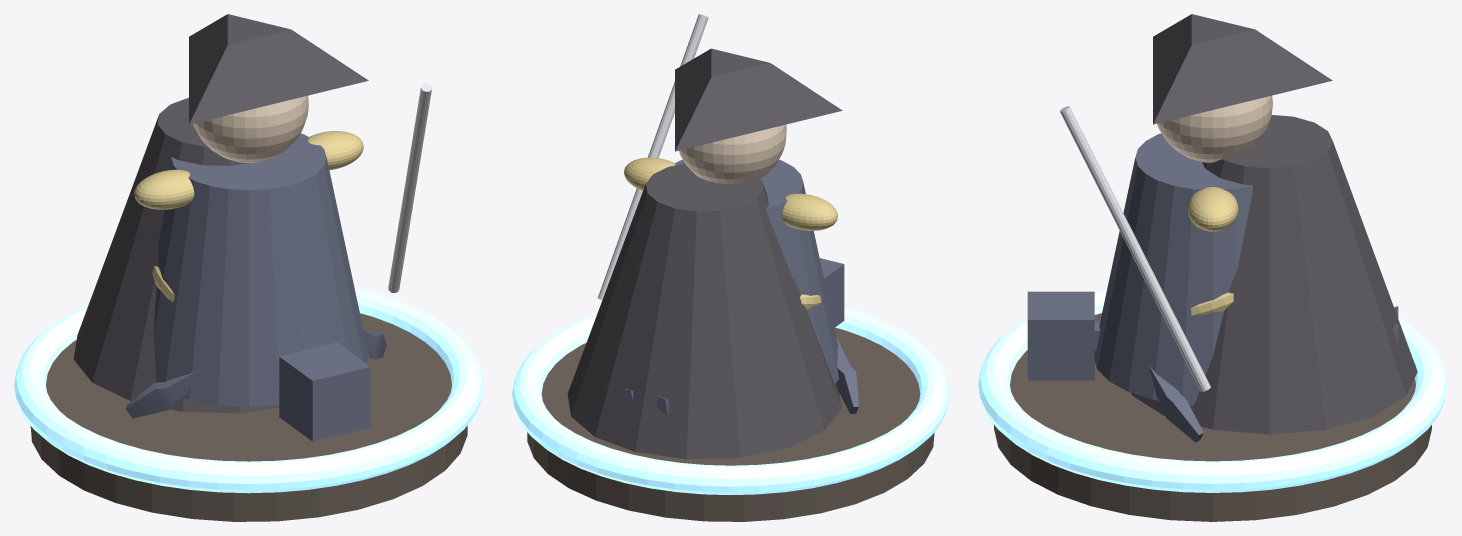
File: unit_dantes.glb
The picture shows the model from 3 angles, left to right: view 1: azimuth 30°, elevation 25°; view 2: azimuth 150°, elevation 25°; view 3: azimuth 270°, elevation 25°; orthographic projection. The views are drawn at different scales.
Parts seen in each view (by area): view 1: Cone, Cylinder, Torus, Cone.002, Cone.001, Proxy, Sphere.002, Cylinder.001, Sphere, Sphere.001; view 2: Cone.002, Cylinder, Torus, Cone.001, Cone, Sphere.002, Proxy, Cylinder.001, Sphere, Sphere.001; view 3: Cone.002, Cylinder, Cone, Torus, Cone.001, Proxy, Sphere.002, Cylinder.001, Sphere.001, Torus.001.
Part boxes in pixels (<box>): Cone: <box>153,133,368,406</box>; Cylinder: <box>30,313,467,521</box>; Torus: <box>14,288,483,493</box>; Cone.002: <box>73,97,279,413</box>; Cone.001: <box>189,14,368,124</box>; Proxy: <box>125,330,386,441</box>; Sphere.002: <box>193,95,308,162</box>; Cylinder.001: <box>388,83,431,292</box>; Sphere: <box>134,169,194,209</box>; Sphere.001: <box>308,131,363,170</box>; Cone.002: <box>567,163,841,459</box>; Cylinder: <box>527,327,934,521</box>; Torus: <box>512,307,949,494</box>; Cone.001: <box>675,48,842,151</box>; Cone: <box>674,159,838,383</box>; Sphere.002: <box>679,124,786,183</box>; Proxy: <box>621,258,859,415</box>; Cylinder.001: <box>598,14,708,299</box>; Sphere: <box>782,193,837,230</box>; Sphere.001: <box>624,157,675,190</box>; Cone.002: <box>1131,115,1417,434</box>; Cylinder: <box>994,313,1431,521</box>; Cone: <box>1094,133,1253,405</box>; Torus: <box>978,287,1447,492</box>; Cone.001: <box>1153,14,1332,124</box>; Proxy: <box>1027,291,1398,442</box>; Sphere.002: <box>1157,95,1272,162</box>; Cylinder.001: <box>1059,106,1210,392</box>; Sphere.001: <box>1187,187,1238,231</box>; Torus.001: <box>1191,292,1233,315</box>.
Bounding box in the file's own units: 1.33 × 1.25 × 1.33.
